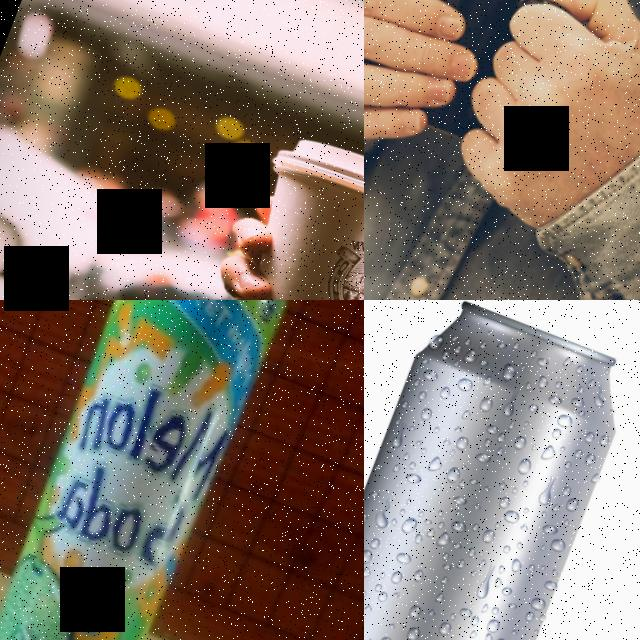can: (0, 300, 300, 640), (364, 300, 640, 640)
cup: (364, 0, 571, 157), (202, 123, 364, 300)
